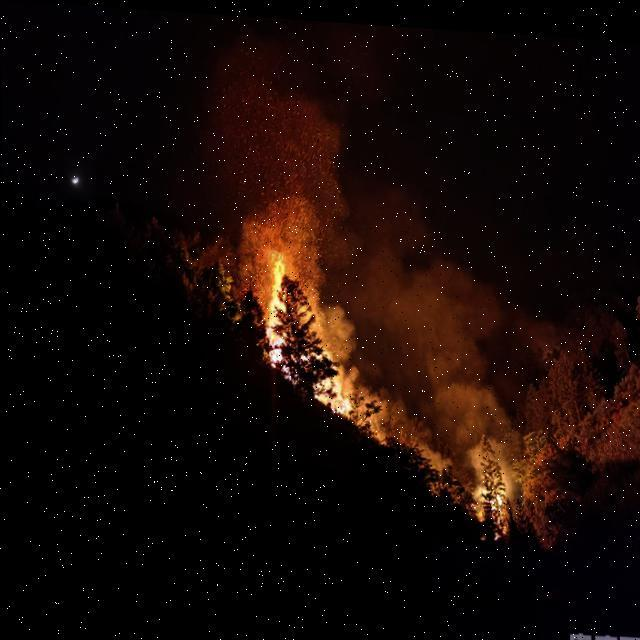Fire: (260, 247, 354, 427), (466, 463, 510, 538)
